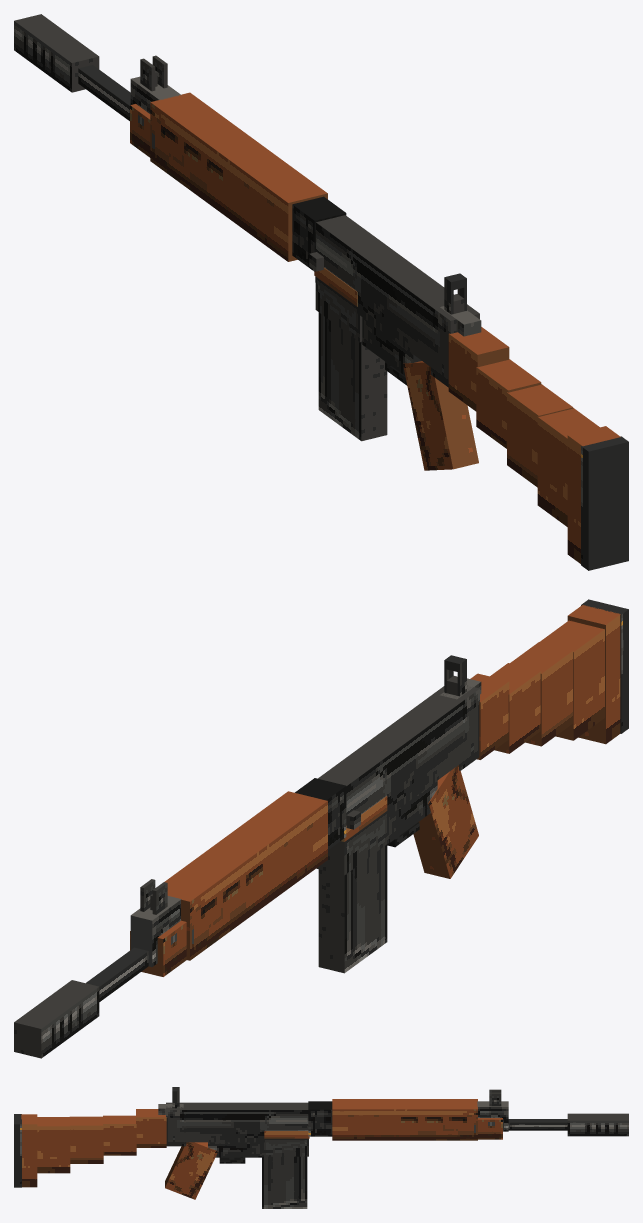
File: fal.glb
3 views of the same model, one above another, from view 1: azimuth 30°, elevation 25°; view 2: azimuth 150°, elevation 25°; view 3: azimuth 270°, elevation 25° (orthographic). The views are drawn at different scales.
Parts seen in each view (by area): view 1: handguard, receiver, magazine, butt_plate, pistol_grip, muzzle_device, stock_3, stock_2, stock_1, stock_wrist, stock_butt, receiver_ring (+6 smaller); view 2: handguard, receiver, magazine, pistol_grip, muzzle_device, stock_3, stock_2, stock_butt, stock_1, stock_wrist, gas_block, mag_well (+6 smaller); view 3: handguard, receiver, magazine, pistol_grip, stock_3, stock_2, muzzle_device, stock_1, stock_butt, stock_wrist, receiver_ring, receiver_rear (+8 smaller).
Part boxes in pixels (<box>): handguard: <box>150,92,327,261</box>; receiver: <box>315,215,444,368</box>; magazine: <box>318,312,387,441</box>; butt_plate: <box>581,436,628,570</box>; pistol_grip: <box>403,361,478,470</box>; muzzle_device: <box>14,14,99,92</box>; stock_3: <box>537,408,599,526</box>; stock_2: <box>507,384,573,487</box>; stock_1: <box>476,359,541,448</box>; stock_wrist: <box>448,327,509,411</box>; stock_butt: <box>567,426,620,563</box>; receiver_ring: <box>292,196,346,271</box>; handguard: <box>164,791,327,960</box>; receiver: <box>318,694,462,848</box>; magazine: <box>318,844,387,973</box>; pistol_grip: <box>413,765,478,878</box>; muzzle_device: <box>14,980,99,1058</box>; stock_3: <box>539,620,604,740</box>; stock_2: <box>510,642,573,746</box>; stock_butt: <box>567,605,620,744</box>; stock_1: <box>490,663,541,753</box>; stock_wrist: <box>470,673,509,759</box>; gas_block: <box>130,896,181,966</box>; mag_well: <box>316,816,388,875</box>; handguard: <box>332,1099,477,1140</box>; receiver: <box>184,1102,308,1142</box>; magazine: <box>262,1156,307,1208</box>; pistol_grip: <box>165,1142,217,1199</box>; stock_3: <box>37,1117,70,1173</box>; stock_2: <box>69,1116,103,1163</box>; muzzle_device: <box>567,1113,628,1136</box>; stock_1: <box>103,1115,136,1155</box>; stock_butt: <box>21,1114,37,1187</box>; stock_wrist: <box>136,1109,166,1147</box>; receiver_ring: <box>308,1101,332,1136</box>; receiver_rear: <box>166,1102,186,1146</box>.
Size of the model in its own units: 0.0461 by 0.2274 by 1.09.
1 material, 1 textured.
